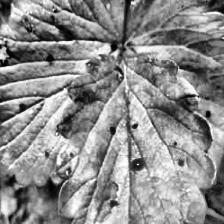Leaf Spot: (54, 48, 217, 224), (0, 0, 126, 190), (124, 0, 224, 182)
